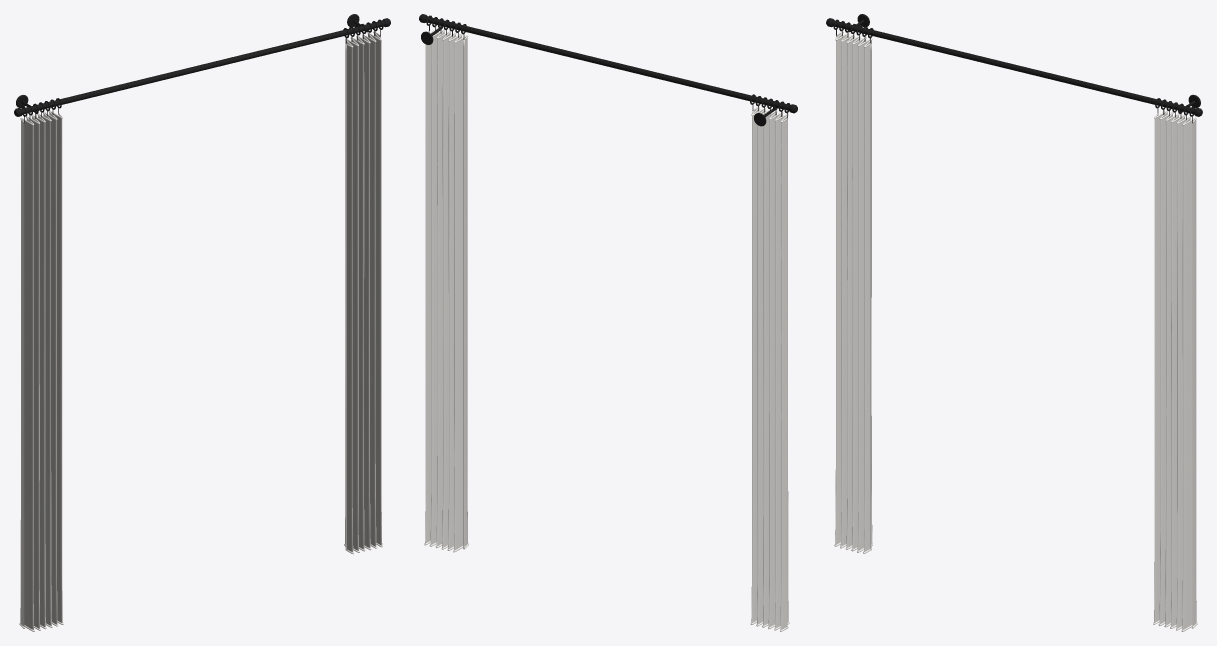
File: cortina_onda_180_c20.glb
3 renders of one model, left to right at view 1: azimuth 30°, elevation 25°; view 2: azimuth 150°, elevation 25°; view 3: azimuth 330°, elevation 25°, orthographic.
Parts seen in each view (by area): view 1: cortina_onda_180_c20; view 2: cortina_onda_180_c20; view 3: cortina_onda_180_c20.
Boxes of the visible parts, bbox=[...] form: cortina_onda_180_c20: bbox=[14, 14, 390, 631]; cortina_onda_180_c20: bbox=[419, 14, 797, 631]; cortina_onda_180_c20: bbox=[826, 14, 1202, 631].
Size of the model in its own units: 1.8 by 2.39 by 0.1783.
Materials: 2 (1 with a texture image).
